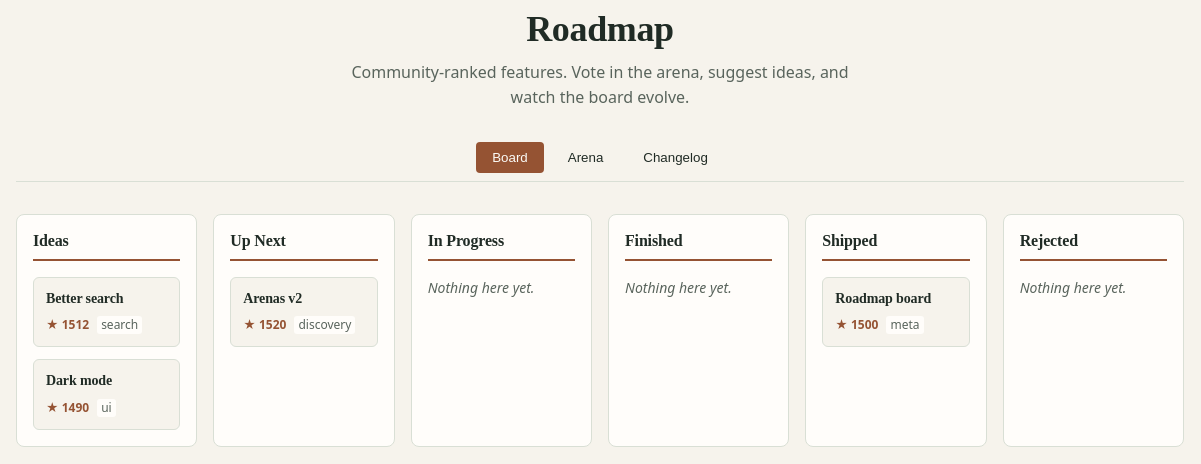
it: Roadmap board page › switches to the changelog tab and lists moves
Check: the heading "Better search" is shown, box [46,291,123,306]
Step 1. Click the button "Changelog" → (676,157), box [627,142,724,173]
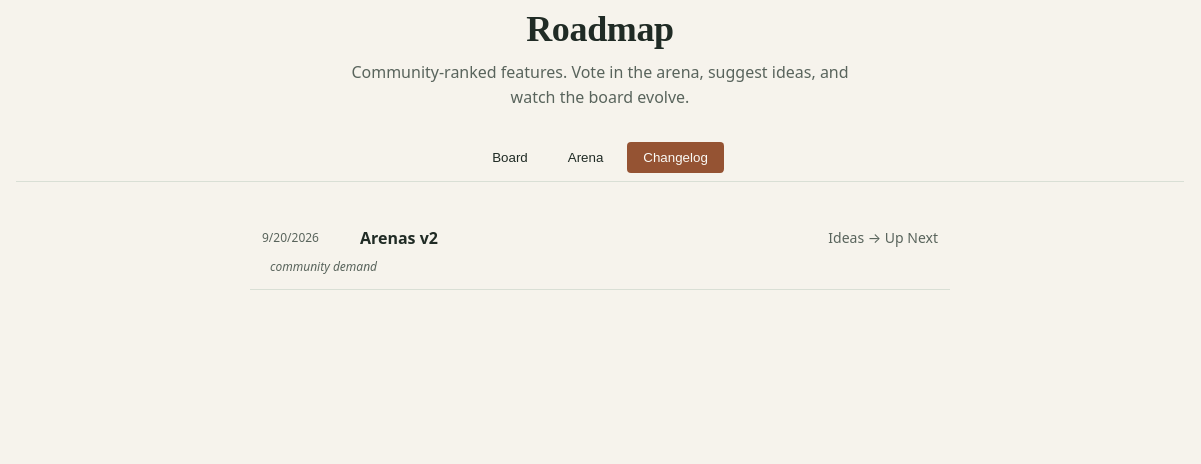
Check: the text "Arenas v2" is shown, box [360,227,438,249]
Check: the text "community demand" is shown, box [270,258,377,275]
